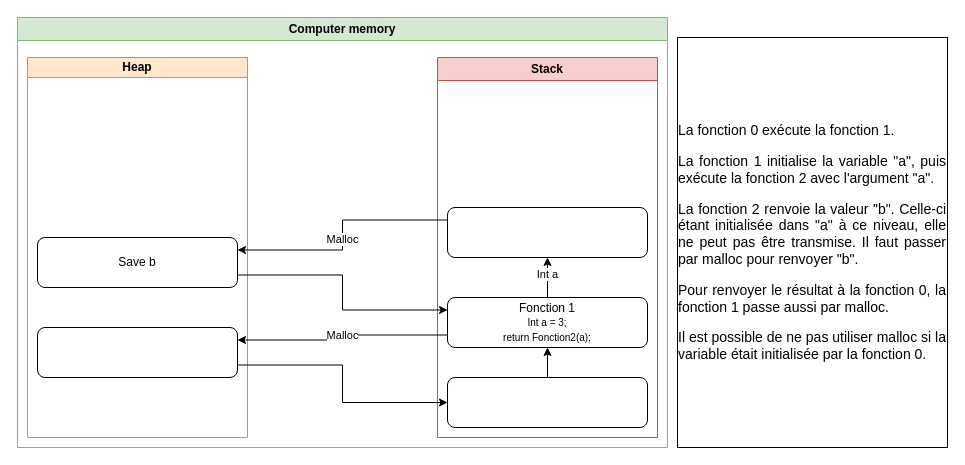
This 965x465 diagram has some shape labels left out. The shapes that lost their labels are listed below. From the top down, each one's centre as x and y in pixels, then its label:
point 547,232: Fonction 2 int b = 3*a; return b
point 137,352: Return Answer function 1
point 547,402: Fonction 0
